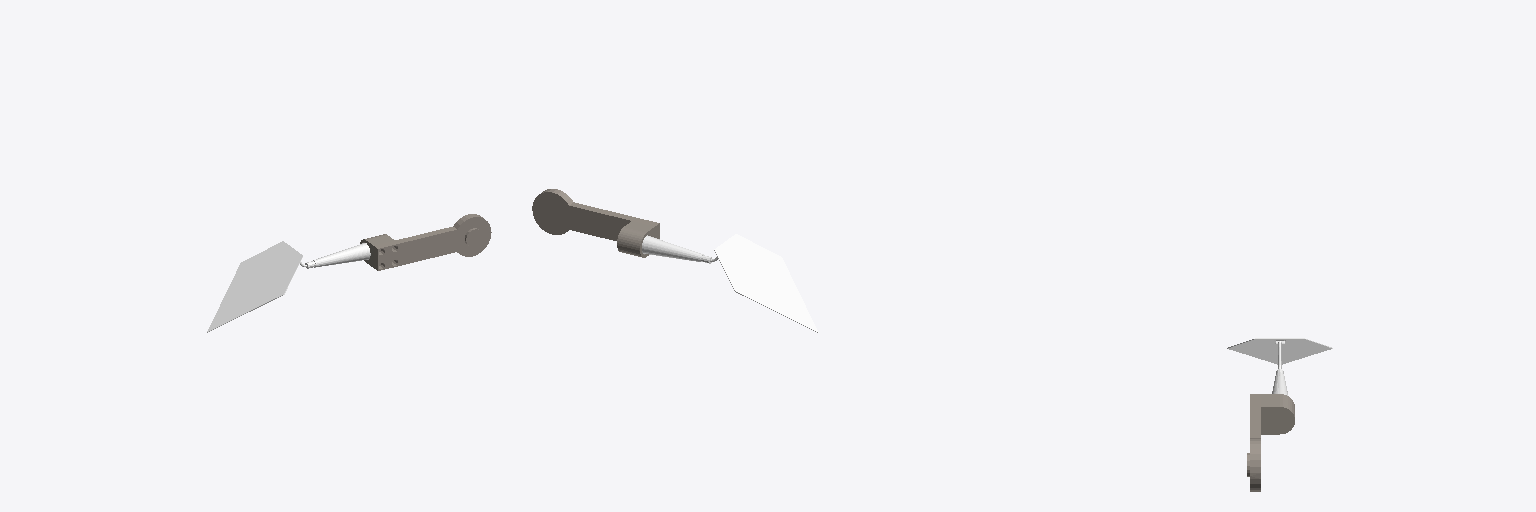
robot.urdf — ur10_with_rotate_shovel:
<?xml version="1.0"?>
<robot name="ur10_with_rotate_shovel">
<link name="ur10">
    <visual>
      <origin xyz="0 0 0" rpy="0 0 0" />
      <geometry>
        <mesh filename="meshes/base.dae" />
      </geometry>
      <material name="SWMaterial-2_001">
        <color rgba="0.37255294 0.37255294 0.37255294 1.00000000"/>
      </material>
    </visual>
    <collision>
      <origin xyz="0 0 0.019" rpy="0 0 0" />
      <geometry>
        <cylinder radius="0.075" length="0.038" />
      </geometry>
    </collision>
    <inertial>
      <origin xyz="0 0 0" rpy="0 0 0" />
      <mass value="4" />
      <inertia ixx="0.0061063" ixy="0" ixz="0" iyy="0.0061063" iyz="0" izz="0.01125" />
    </inertial>
  </link>

  <link name="ur10_shoulder">
    <visual>
      <origin xyz="0 0 0" rpy="0 0 0" />
      <geometry>
        <mesh filename="meshes/shoulder.dae" />
      </geometry>
      <material name="SWMaterial-0">
        <color rgba="0.22353333 0.22353333 0.22353333 1.00000000"/>
      </material>
      <material name="SWMaterial-1">
        <color rgba="0.39216078 0.54118039 0.63921961 1.00000000"/>
      </material>
      <material name="SWMaterial-2">
        <color rgba="0.46274902 0.46274902 0.46274902 1.00000000"/>
      </material>
    </visual>
    <collision>
      <origin xyz="0 0 0" rpy="0 0 0" />
      <geometry>
        <cylinder radius="0.075" length="0.177" />
      </geometry>
    </collision>
    <inertial>
      <origin xyz="0 0 0" rpy="0 0 0" />
      <mass value="7.778" />
      <inertia ixx="0.0314743" ixy="0" ixz="0" iyy="0.0314743" iyz="0" izz="0.0218756" />
    </inertial>
  </link>

  <link name="ur10_upper_arm">
    <visual>
      <origin xyz="0 0 0" rpy="0 0 0" />
      <geometry>
        <mesh filename="meshes/upperarm.dae" />
      </geometry>
      <material name="SWMaterial-0">
        <color rgba="0.22353333 0.22353333 0.22353333 1.00000000"/>
      </material>
      <material name="SWMaterial-1">
        <color rgba="0.39216078 0.54118039 0.63921961 1.00000000"/>
      </material>
      <material name="SWMaterial-2">
        <color rgba="0.46274902 0.46274902 0.46274902 1.00000000"/>
      </material>
      <material name="SWMaterial-3">
        <color rgba="0.65490588 0.65490588 0.65490588 1.00000000"/>
      </material>
    </visual>
    <collision>
      <origin xyz="0 -0.045 0" rpy="1.5707 0 0" />
      <geometry>
        <cylinder radius="0.075" length="0.177" />
      </geometry>
    </collision>
    <collision>
      <origin xyz="0 -0.0436 0.32" rpy="0 0 1.5707" />
      <geometry>
        <cylinder radius="0.058" length="0.461" />
      </geometry>
    </collision>
    <collision>
      <origin xyz="0 -0.04 0.613" rpy="1.5707 0 0" />
      <geometry>
        <cylinder radius="0.058" length="0.129" />
      </geometry>
    </collision>
    <inertial>
      <origin xyz="0 0 0.306" rpy="0 0 0" />
      <mass value="12.93" />
      <inertia ixx="0.421754" ixy="0" ixz="0" iyy="0.421754" iyz="0" izz="0.0363656" />
    </inertial>
  </link>

  <link name="ur10_forearm">
    <visual>
      <origin xyz="0 0 0" rpy="0 0 0" />
      <geometry>
        <mesh filename="meshes/forearm.dae" />
      </geometry>
      <material name="SWMaterial-0">
        <color rgba="0.22353333 0.22353333 0.22353333 1.00000000"/>
      </material>
      <material name="SWMaterial-1">
        <color rgba="0.39216078 0.54118039 0.63921961 1.00000000"/>
      </material>
      <material name="SWMaterial-2">
        <color rgba="0.46274902 0.46274902 0.46274902 1.00000000"/>
      </material>
      <material name="SWMaterial-3">
        <color rgba="0.65490588 0.65490588 0.65490588 1.00000000"/>
      </material>
      <material name="SWMaterial-4">
        <color rgba="0.07843529 0.07843529 0.07843529 1.00000000"/>
      </material>
    </visual>
    <collision>
      <origin xyz="0 0 0.001" rpy="1.5707 0 0" />
      <geometry>
        <cylinder radius="0.058" length="0.136" />
      </geometry>
    </collision>
    <collision>
      <origin xyz="0 0 0.305" rpy="0 0 1.5707" />
      <geometry>
        <cylinder radius="0.045" length="0.447" />
      </geometry>
    </collision>
    <collision>
      <origin xyz="0 0.001 0.5735" rpy="1.5707 0 0" />
      <geometry>
        <cylinder radius="0.045" length="0.119" />
      </geometry>
    </collision>
    <inertial>
      <origin xyz="0 0 0.28615" rpy="0 0 0" />
      <mass value="3.87" />
      <inertia ixx="0.11107" ixy="0" ixz="0" iyy="0.11107" iyz="0" izz="0.0108844" />
    </inertial>
  </link>

  <link name="ur10_wrist_1">
    <visual>
      <origin xyz="0 0 0" rpy="0 0 0" />
      <geometry>
        <mesh filename="meshes/wrist1.dae" />
      </geometry>
      <material name="SWMaterial-0_001">
        <color rgba="0.22353333 0.22353333 0.22353333 1.00000000"/>
      </material>
      <material name="SWMaterial-1_001">
        <color rgba="0.39216078 0.54118039 0.63921961 1.00000000"/>
      </material>
      <material name="SWMaterial-2_001">
        <color rgba="0.46274902 0.46274902 0.46274902 1.00000000"/>
      </material>
    </visual>
    <collision>
      <origin xyz="0 0.115 0.0025" rpy="0 0 0" />
      <geometry>
        <cylinder radius="0.0455" length="0.119" />
      </geometry>
    </collision>
    <inertial>
      <origin xyz="0 0 0" rpy="0 0 0" />
      <mass value="1.96" />
      <inertia ixx="0.0051082" ixy="0" ixz="0" iyy="0.0051082" iyz="0" izz="0.0055125" />
    </inertial>
  </link>

  <link name="ur10_wrist_2">
    <visual>
      <origin xyz="0 0 0" rpy="0 0 0" />
      <geometry>
        <mesh filename="meshes/wrist2.dae" />
      </geometry>
      <material name="SWMaterial-0_002">
        <color rgba="0.22353333 0.22353333 0.22353333 1.00000000"/>
      </material>
      <material name="SWMaterial-1_002">
        <color rgba="0.39216078 0.54118039 0.63921961 1.00000000"/>
      </material>
      <material name="SWMaterial-2_002">
        <color rgba="0.46274902 0.46274902 0.46274902 1.00000000"/>
      </material>
    </visual>
    <collision>
      <origin xyz="0 0.002 0.11659" rpy="1.5707 0 0" />
      <geometry>
        <cylinder radius="0.0455" length="0.119" />
      </geometry>
    </collision>
    <inertial>
      <origin xyz="0 0 0" rpy="0 0 0" />
      <mass value="1.96" />
      <inertia ixx="0.0051082" ixy="0" ixz="0" iyy="0.0051082" iyz="0" izz="0.0055125" />
    </inertial>
  </link>

  <link name="ur10_wrist_3">
    <visual>
      <origin xyz="0 0 0" rpy="0 0 0" />
      <geometry>
        <mesh filename="meshes/wrist3.dae" />
      </geometry>
      <material name="SWMaterial-2_003">
        <color rgba="0.46274902 0.46274902 0.46274902 1.00000000"/>
      </material>
    </visual>
    <collision>
      <origin xyz="0 0.0765 0" rpy="1.5707 0 0" />
      <geometry>
        <cylinder radius="0.045" length="0.031" />
      </geometry>
    </collision>
    <inertial>
      <origin xyz="0 0 0" rpy="0 0 0" />
      <mass value="0.202" />
      <inertia ixx="0.0005265" ixy="0" ixz="0" iyy="0.0005265" iyz="0" izz="0.0005681" />
    </inertial>
  </link>

  <joint name="ur10_shoulder_pan" type="revolute">
    <parent link="ur10" />
    <child link="ur10_shoulder" />
    <origin xyz="0 0 0.1273" rpy="0 0 0" />
    <axis xyz="0 0 1" />
    <limit lower="-6.28319" upper="6.28319" effort="330" velocity="2.16" />
  </joint>

  <joint name="ur10_shoulder_lift" type="revolute">
    <parent link="ur10_shoulder" />
    <child link="ur10_upper_arm" />
    <origin xyz="0 0.220941 0" rpy="0 1.57079 0" />
    <axis xyz="0 1 0" />
    <limit lower="-6.28319" upper="6.28319" effort="330" velocity="2.16" />
  </joint>

  <joint name="ur10_elbow" type="revolute">
    <parent link="ur10_upper_arm" />
    <child link="ur10_forearm" />
    <origin xyz="-0.0000039 -0.1719 0.612" rpy="0 0 0" />
    <axis xyz="0 1 0" />
    <limit lower="-6.28319" upper="6.28319" effort="150" velocity="3.15" />
  </joint>

  <joint name="ur10_wrist_1" type="revolute">
    <parent link="ur10_forearm" />
    <child link="ur10_wrist_1" />
    <origin xyz="-0.0000036 0 0.5723" rpy="0 1.5707895 0.0000027" />
    <axis xyz="0 1 0" />
    <limit lower="-6.28319" upper="6.28319" effort="54" velocity="3.2" />
  </joint>

  <joint name="ur10_wrist_2" type="revolute">
    <parent link="ur10_wrist_1" />
    <child link="ur10_wrist_2" />
    <origin xyz="0.0000003 0.1149 0.0000003" rpy="0 0 0" />
    <axis xyz="0 0 -1" />
    <limit lower="-6.28319" upper="6.28319" effort="54" velocity="3.2" />
  </joint>

  <joint name="ur10_wrist_3" type="revolute">
    <parent link="ur10_wrist_2" />
    <child link="ur10_wrist_3" />
    <origin xyz="0 -0.0000003 0.1157" rpy="0 0 0" />
    <axis xyz="0 1 0" />
    <limit lower="-6.28319" upper="6.28319" effort="54" velocity="3.2" />
  </joint>

  <joint name="ur10_wrist_3_to_shovel_rotate_base" type="fixed">
    <parent link="ur10_wrist_3" />
    <child link="base_link" />
    <origin xyz="0 0.09 0" rpy="1.5707963 0 0" />
  </joint>

  <!-- Rotating shovel assembly from shovel_rotate. -->
<link name="base_link">
    <inertial>
      <origin xyz="0.056828169263075 -4.14000490374386E-18 -0.0117288385505833" rpy="0 0 0" />
      <mass value="1.01805130240541" />
      <inertia ixx="0.000223500567511372" ixy="-5.03669428440763E-21" ixz="1.56877722524815E-05" iyy="0.00362147977855399" iyz="2.48425009701901E-21" izz="0.00380745681488709" />
    </inertial>
    <visual>
      <origin xyz="0 0 0" rpy="0 0 0" />
      <geometry>
        <mesh filename="meshes/base_link.STL" />
      </geometry>
      <material name="">
        <color rgba="0.650980392156863 0.619607843137255 0.588235294117647 1" />
      </material>
    </visual>
    <collision>
      <origin xyz="0 0 0" rpy="0 0 0" />
      <geometry>
        <mesh filename="meshes/base_link.STL" />
      </geometry>
    </collision>
  </link>
  <link name="base_link_2">
    <inertial>
      <origin xyz="-0.00158445661415119 6.78094517637425E-19 0.018316845778373" rpy="0 0 0" />
      <mass value="0.0390355310553479" />
      <inertia ixx="1.34883319076031E-05" ixy="3.10257279915433E-22" ixz="4.13353792795213E-07" iyy="1.28963362932004E-05" iyz="1.25797608931366E-21" izz="1.19741642621157E-05" />
    </inertial>
    <visual>
      <origin xyz="0 0 0" rpy="0 0 0" />
      <geometry>
        <mesh filename="meshes/base_link_2.STL" />
      </geometry>
      <material name="">
        <color rgba="0.647058823529412 0.619607843137255 0.588235294117647 1" />
      </material>
    </visual>
    <collision>
      <origin xyz="0 0 0" rpy="0 0 0" />
      <geometry>
        <mesh filename="meshes/base_link_2.STL" />
      </geometry>
    </collision>
  </link>
  <joint name="base_rotate" type="fixed">
    <origin xyz="0.15744562646538 0 -0.019" rpy="3.14159265358979 0 0" />
    <parent link="base_link" />
    <child link="base_link_2" />
    <axis xyz="0 0 0" />
  </joint>
  <link name="base_link_3">
    <inertial>
      <origin xyz="1.73472347597681E-18 6.93889390390723E-18 -0.000499999999999973" rpy="0 0 0" />
      <mass value="1.25663706143592E-05" />
      <inertia ixx="1.36135681655558E-11" ixy="0" ixz="-2.42841104008608E-44" iyy="1.36135681655558E-11" iyz="3.74283737707913E-44" izz="2.51327412287184E-11" />
    </inertial>
    <visual>
      <origin xyz="0 0 0" rpy="0 0 0" />
      <geometry>
        <mesh filename="meshes/base_link_3.STL" />
      </geometry>
      <material name="">
        <color rgba="1 1 1 1" />
      </material>
    </visual>
    <collision>
      <origin xyz="0 0 0" rpy="0 0 0" />
      <geometry>
        <mesh filename="meshes/base_link_3.STL" />
      </geometry>
    </collision>
  </link>
  <joint name="xuanzhuan_jizuo" type="fixed">
    <origin xyz="-0.014 0 0.025" rpy="-1.5707963267949 0 -1.5707963267949" />
    <parent link="base_link_2" />
    <child link="base_link_3" />
    <axis xyz="0 0 0" />
  </joint>
  <joint name="base_tail_to_shovel_base" type="revolute">
    <origin xyz="0 0 0" rpy="3.14159265358979 0 0" />
    <parent link="base_link_3" />
    <child link="shovel_base_link" />
    <axis xyz="0 0 1" />
    <limit lower="-3.14159265358979" upper="3.14159265358979" effort="10" velocity="1" />
  </joint>
  <link name="shovel_base_link">
    <inertial>
      <origin xyz="0.0016245 -1.3997E-06 -0.092921" rpy="0 0 0" />
      <mass value="0.5793" />
      <inertia ixx="0.0043222" ixy="1.5225E-08" ixz="0.00026644" iyy="0.0043066" iyz="2.8511E-08" izz="0.00024905" />
    </inertial>
    <visual>
      <origin xyz="0 0 0" rpy="0 0 0" />
      <geometry>
        <mesh filename="meshes/shovel_base_link.STL" />
      </geometry>
      <material name="">
        <color rgba="1 1 1 1" />
      </material>
    </visual>
    <collision>
      <origin xyz="0 0 0" rpy="0 0 0" />
      <geometry>
        <mesh filename="meshes/shovel_base_link.STL" />
      </geometry>
    </collision>
  </link>
  <link name="shovel_forward_link">
    <inertial>
      <origin xyz="6.9389E-18 -0.00029192 -5E-05" rpy="0 0 0" />
      <mass value="1.0569E-08" />
      <inertia ixx="1.2139E-16" ixy="5.5475E-30" ixz="-1.6941E-30" iyy="1.1144E-16" iyz="8.659E-31" izz="2.1522E-16" />
    </inertial>
    <visual>
      <origin xyz="0 0 0" rpy="0 0 0" />
      <geometry>
        <mesh filename="meshes/shovel_forward_link.STL" />
      </geometry>
      <material name="">
        <color rgba="1 1 1 1" />
      </material>
    </visual>
    <collision>
      <origin xyz="0 0 0" rpy="0 0 0" />
      <geometry>
        <mesh filename="meshes/shovel_forward_link.STL" />
      </geometry>
    </collision>
  </link>
  <joint name="shovel_forward_frame" type="fixed">
    <origin xyz="0.077109 0 -0.33132" rpy="-0.95993 -1.04E-05 -1.5708" />
    <parent link="shovel_base_link" />
    <child link="shovel_forward_link" />
    <axis xyz="0 0 0" />
  </joint>
  <link name="shovel_left_link">
    <inertial>
      <origin xyz="0.0047418 -6.6562E-05 -0.00025" rpy="0 0 0" />
      <mass value="4.7079E-05" />
      <inertia ixx="1.3667E-09" ixy="-9.8037E-12" ixz="2.1476E-25" iyy="1.3427E-10" iyz="-6.527E-25" izz="1.499E-09" />
    </inertial>
    <visual>
      <origin xyz="0 0 0" rpy="0 0 0" />
      <geometry>
        <mesh filename="meshes/shovel_left_link.STL" />
      </geometry>
      <material name="">
        <color rgba="1 1 1 1" />
      </material>
    </visual>
    <collision>
      <origin xyz="0 0 0" rpy="0 0 0" />
      <geometry>
        <mesh filename="meshes/shovel_left_link.STL" />
      </geometry>
    </collision>
  </link>
  <joint name="shovel_left_frame" type="fixed">
    <origin xyz="0.0046013 0.07 -0.22707" rpy="-0.95993 0 -1.5708" />
    <parent link="shovel_base_link" />
    <child link="shovel_left_link" />
    <axis xyz="0 0 0" />
  </joint>
  <link name="shovel_right_link">
    <inertial>
      <origin xyz="-0.0047576 -3.7843E-05 -0.00025" rpy="0 0 0" />
      <mass value="4.7079E-05" />
      <inertia ixx="1.3667E-09" ixy="9.8037E-12" ixz="-1.1391E-25" iyy="1.3427E-10" iyz="3.3087E-24" izz="1.499E-09" />
    </inertial>
    <visual>
      <origin xyz="0 0 0" rpy="0 0 0" />
      <geometry>
        <mesh filename="meshes/shovel_right_link.STL" />
      </geometry>
      <material name="">
        <color rgba="1 1 1 1" />
      </material>
    </visual>
    <collision>
      <origin xyz="0 0 0" rpy="0 0 0" />
      <geometry>
        <mesh filename="meshes/shovel_right_link.STL" />
      </geometry>
    </collision>
  </link>
  <joint name="shovel_right_frame" type="fixed">
    <origin xyz="0.0046277 -0.069975 -0.22711" rpy="-0.95993 0 -1.5708" />
    <parent link="shovel_base_link" />
    <child link="shovel_right_link" />
    <axis xyz="0 0 0" />
  </joint>
  <link name="shovel_surface_center_link">
    <inertial>
      <origin xyz="0 0 0" rpy="0 0 0" />
      <mass value="1e-08" />
      <inertia ixx="1e-12" ixy="0" ixz="0" iyy="1e-12" iyz="0" izz="1e-12" />
    </inertial>
  </link>
  <joint name="shovel_surface_center_frame" type="fixed">
    <origin xyz="0.0287793333333 0.00000833333333 -0.261833333333" rpy="-0.95993 0 -1.5708" />
    <parent link="shovel_base_link" />
    <child link="shovel_surface_center_link" />
    <axis xyz="0 0 0" />
  </joint>
</robot>

--- What the picture shows (computed from the rendered views, not written in the file) ---
The picture shows the robot from 3 angles, left to right: view 1: azimuth 30°, elevation 25°; view 2: azimuth 150°, elevation 25°; view 3: azimuth 270°, elevation 25°; orthographic projection.
Robot: ur10_with_rotate_shovel — 15 links, 14 joints (7 revolute, 7 fixed); root link ur10; default pose: all joints at 0.
Visible links, largest first — view 1: shovel_base_link, base_link; view 2: shovel_base_link, base_link, base_link_2; view 3: shovel_base_link, base_link_2, base_link.
Link boxes in pixels (left/top/right/bottom): shovel_base_link: left=207, top=241, right=370, bottom=332; base_link: left=374, top=214, right=491, bottom=270; shovel_base_link: left=642, top=234, right=818, bottom=332; base_link: left=532, top=189, right=659, bottom=240; base_link_2: left=617, top=221, right=654, bottom=257; shovel_base_link: left=1228, top=338, right=1331, bottom=395; base_link_2: left=1261, top=394, right=1294, bottom=434; base_link: left=1247, top=394, right=1260, bottom=491.
Bounding box of the posed robot: 0.8447 × 0.14 × 0.3439 m (x, y, z).
Meshes: 14 distinct files referenced, 7 mesh visuals loaded (7 binary STL); not drawn: 7 (reference not matched to a file when rendering).
